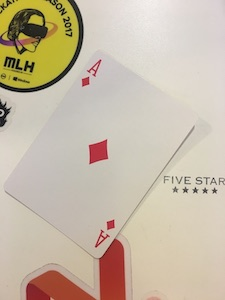AceOfDiamonds: (1, 48, 202, 261)
